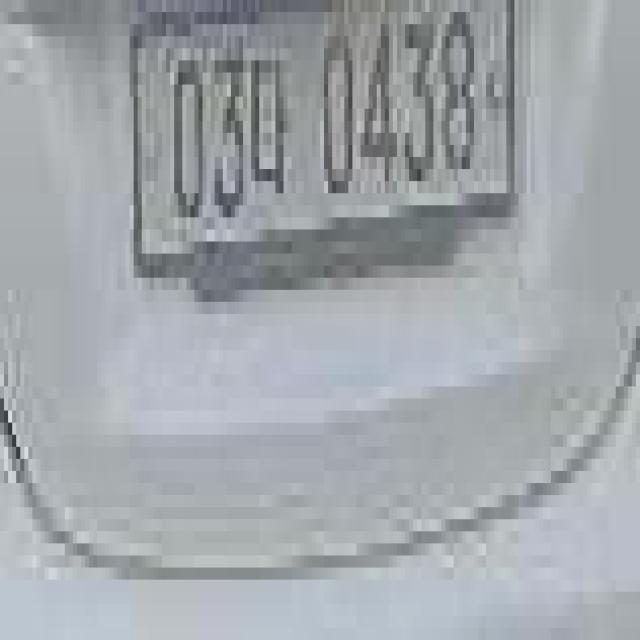illegal_plate: (127, 2, 526, 299)
